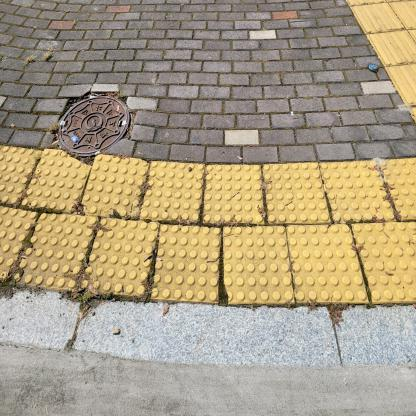podotacti: (0, 135, 415, 313), (341, 0, 415, 130)
